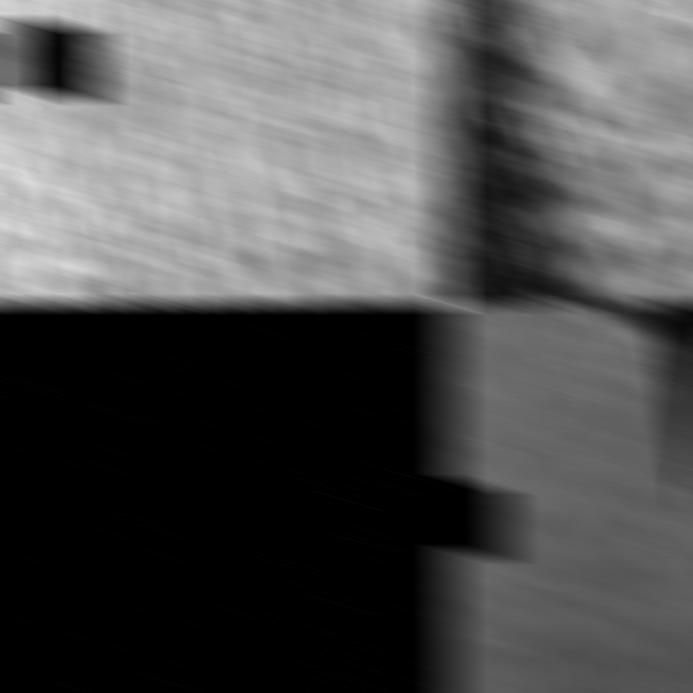Airbag: (0, 0, 459, 306), (441, 301, 693, 693), (441, 0, 693, 306)
